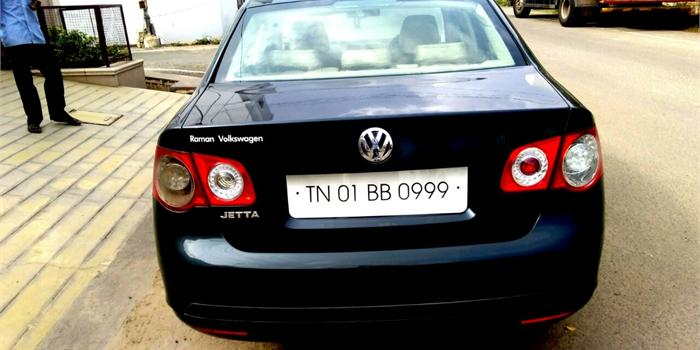T: (303, 181, 317, 207)
